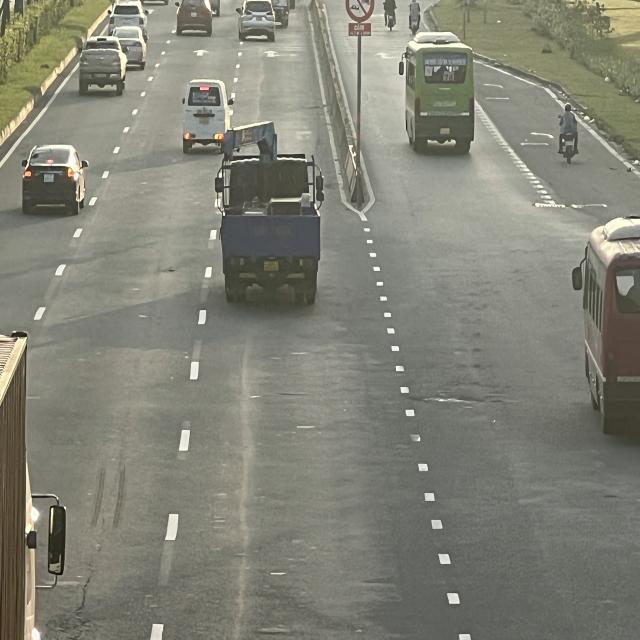car: (19, 143, 85, 212), (77, 39, 126, 95), (111, 26, 146, 69), (239, 0, 276, 39), (176, 0, 213, 33)
coach: (572, 214, 640, 431), (403, 30, 477, 152)
truck: (219, 124, 327, 310)
van: (183, 77, 234, 151)
